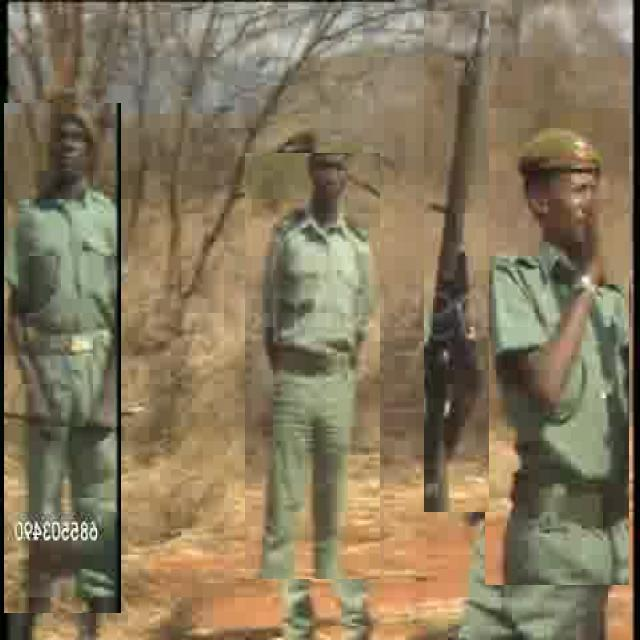poacher: (486, 108, 630, 585), (4, 103, 121, 613), (245, 153, 380, 579)
weapon: (424, 11, 489, 512)
